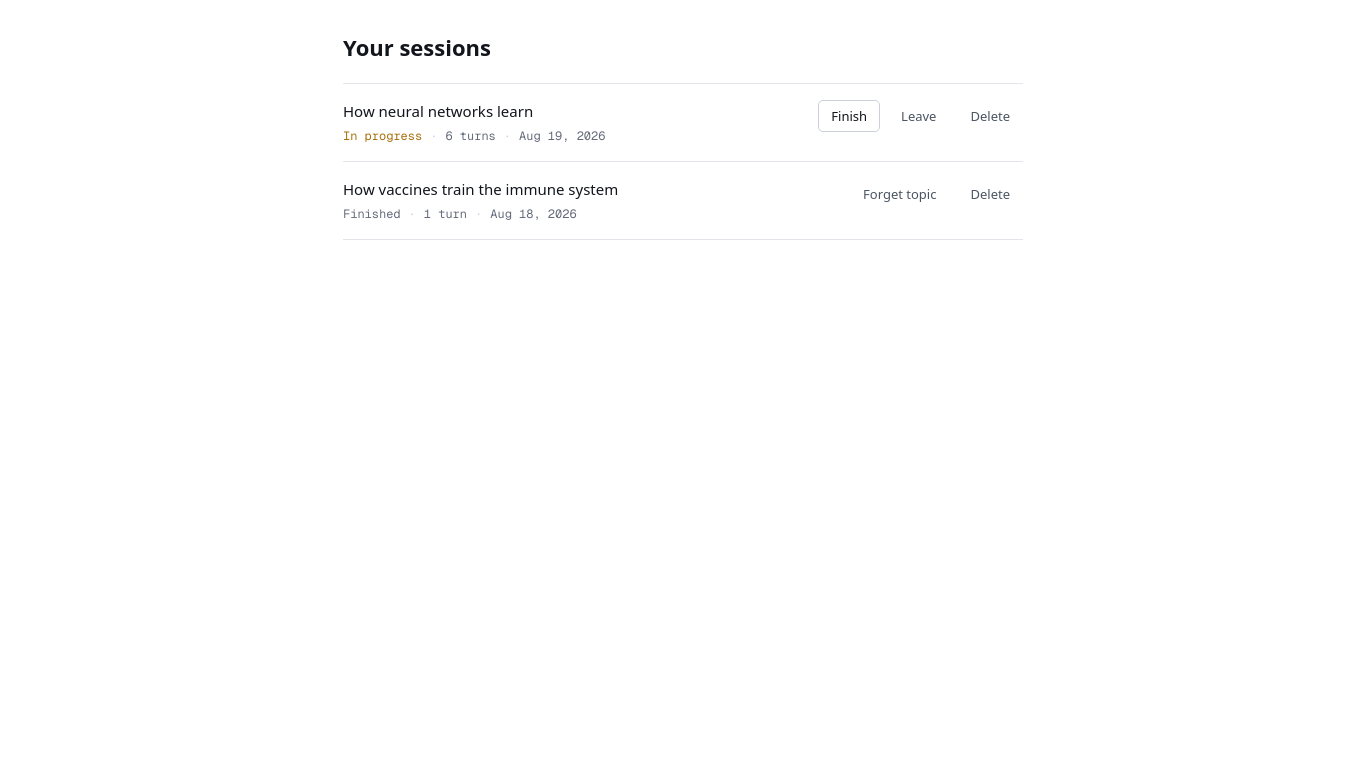
Test case: SessionList › the verbs › shows why a verb failed and keeps the row
Click the button "Delete" in the row of "How vaccines train the immune system" at (990, 194), box [958,178,1023,210]
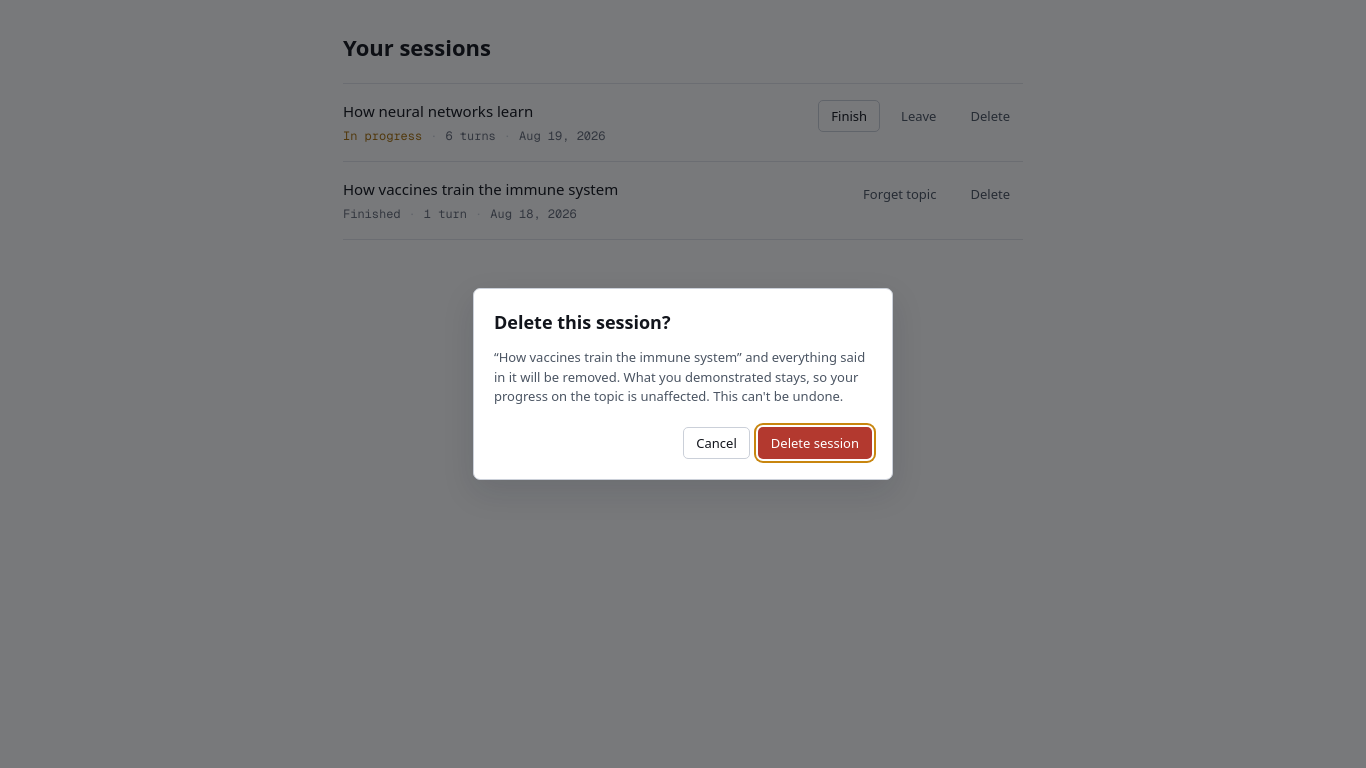
Click the button "Delete session" at (815, 443), box [758,427,872,459]
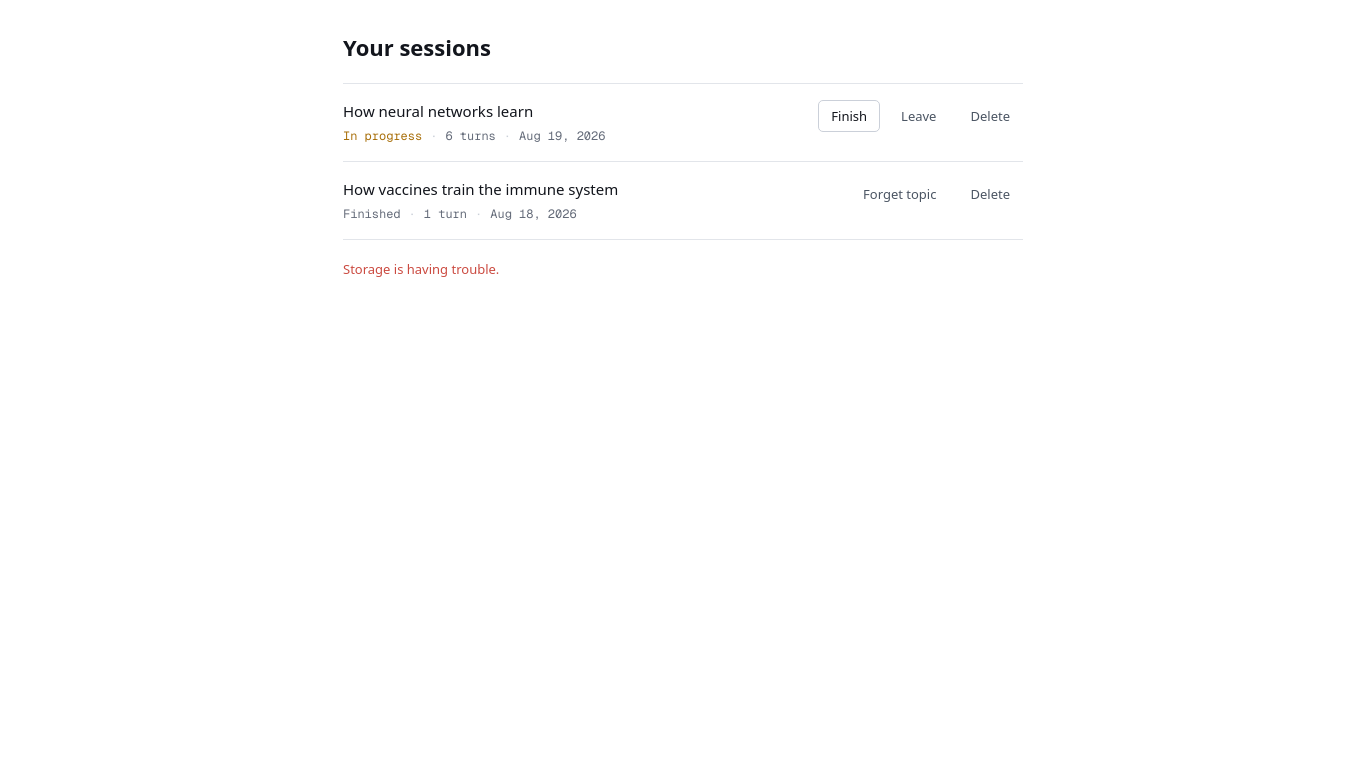
Expected: the number of list items is 2, [343,84,1023,162]; [343,162,1023,240]
Expected: the text "Storage is having trouble." is shown, [343,260,499,278]
